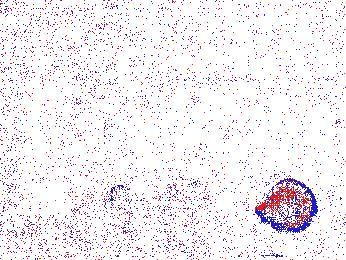flame jellyfish: (254, 178, 320, 234), (62, 192, 118, 240), (104, 183, 143, 228)
